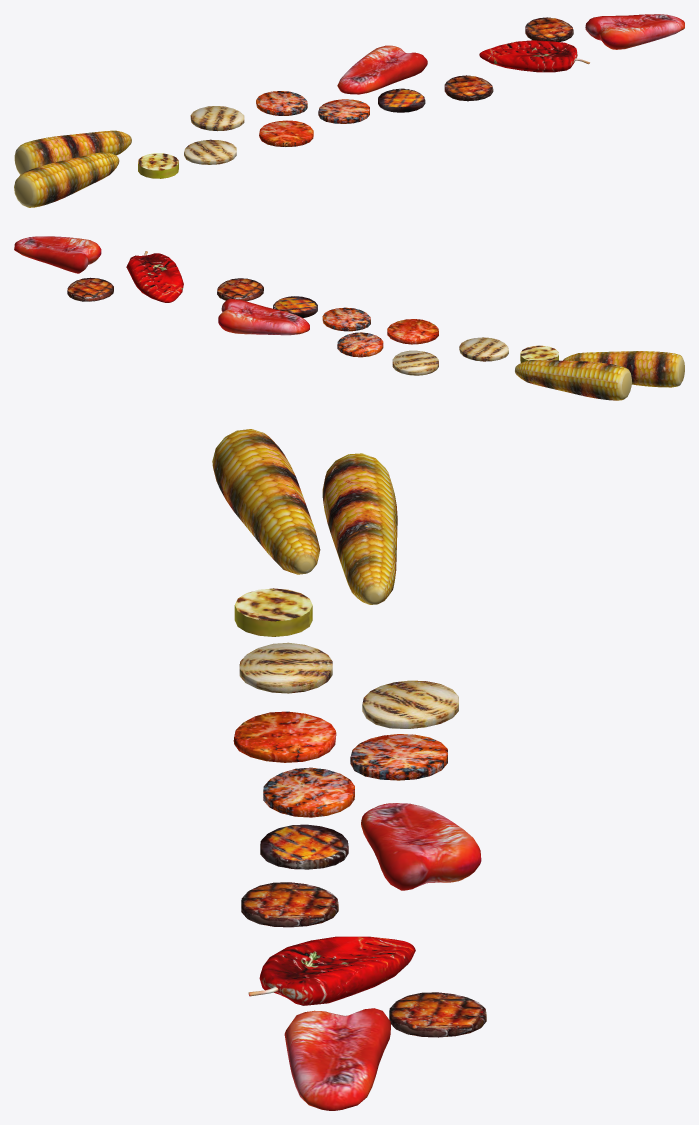
The model's file is GardenFoodGrilled01_2.FBX.
3 views of the same model, one above another, from view 1: azimuth 30°, elevation 25°; view 2: azimuth 150°, elevation 25°; view 3: azimuth 270°, elevation 25° (orthographic). The views are drawn at different scales.
Parts seen in each view (by area): view 1: GardenFoodGrilled01_2; view 2: GardenFoodGrilled01_2; view 3: GardenFoodGrilled01_2.
Boxes of the visible parts, <box> form: GardenFoodGrilled01_2: <box>14,14,684,207</box>; GardenFoodGrilled01_2: <box>14,236,684,400</box>; GardenFoodGrilled01_2: <box>212,429,486,1110</box>.
Size of what is drawn, in the model's own units: 0.8494 by 0.0432 by 0.1562.
